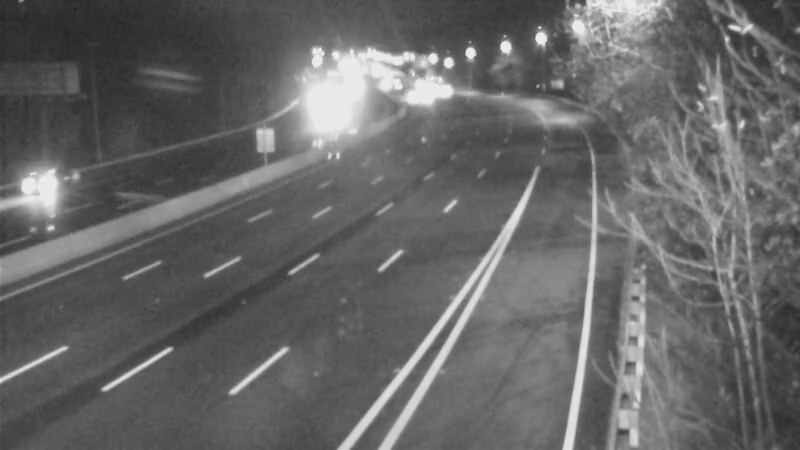vehicle: (4, 143, 84, 223)
